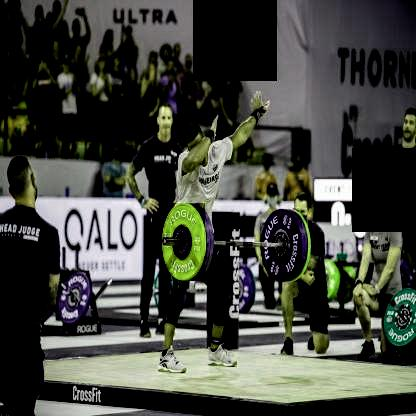barbell: (161, 203, 206, 282), (261, 209, 302, 282)
